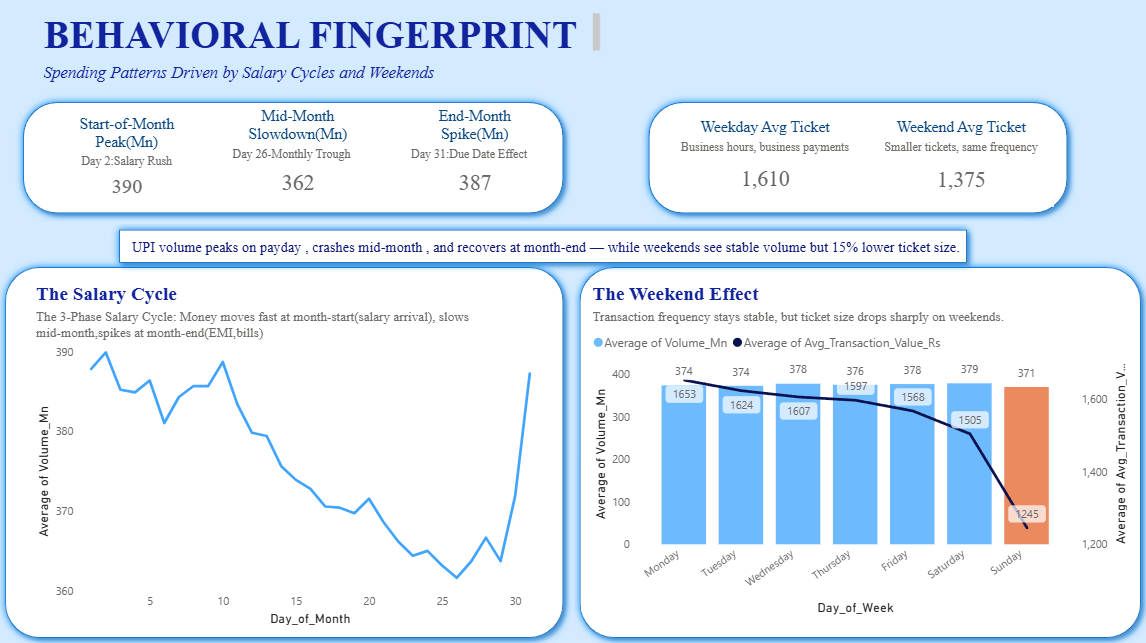

What the dashboard file says about the page in this screenshot:
{"tool":"powerbi","page":{"name":"Behavioral Fingerprint","canvas":[1280,720],"ordinal":2},"visuals":[{"type":"shape","box":[715,106.7,483.3,141.7],"z":0},{"type":"shape","box":[20,106.7,618.3,141.7],"z":1000},{"type":"shape","box":[638.3,290,641.7,430],"z":2000},{"type":"shape","box":[0,290,638.3,430],"z":3000},{"type":"lineChart","title":"The Salary Cycle","fields":{"Category":["Daily_Statistics.Day_of_Month"],"Y":["Avg(Daily_Statistics.Volume_Mn)"]},"box":[38.3,316.7,568.3,385],"z":4000},{"type":"lineClusteredColumnComboChart","title":"The Weekend Effect","fields":{"Y":["Avg(Daily_Statistics.Volume_Mn)"],"Y2":["Avg(Daily_Statistics.Avg_Transaction_Value_Rs)"],"Category":["Daily_Statistics.Day_of_Week"]},"box":[656.7,316.7,603.3,373.3],"z":5000},{"type":"textbox","box":[47,11.3,628.3,55.1],"z":6000},{"type":"textbox","box":[47,66.4,477.7,40.5],"z":7000},{"type":"card","title":"Weekday Avg Ticket","fields":{"Values":["Daily_Statistics.Weekday Avg Ticket"]},"box":[748.6,132.9,210,97.1],"z":8000},{"type":"card","title":"Weekend Avg Ticket ","fields":{"Values":["Daily_Statistics.Weekend Avg Ticket"]},"box":[968.6,132.9,205.7,98.6],"z":9000},{"type":"card","title":"Start-of-Month Peak(Mn)","fields":{"Values":["Daily_Statistics.Day2 Volume"]},"box":[66.7,121.7,155,110],"z":10000},{"type":"card","title":"Mid-Month Slowdown(Mn)","fields":{"Values":["Daily_Statistics.Day26 Volume"]},"box":[256.7,121.7,155,110],"z":11000},{"type":"card","title":"End-Month Spike(Mn)","fields":{"Values":["Daily_Statistics.Day31 Volume"]},"box":[455,121.7,151.7,110],"z":12000},{"type":"shape","box":[126.7,248.3,960,55],"z":13000},{"type":"textbox","box":[145,261.7,941.7,30],"z":14000}]}

Visuals, with their boxes in screenshot pixels (x1, y1, x2, y2), scaled from the page's 1280x720 canvas onto the 1146x643 screenshot:
shape: [640,95,1073,222]
shape: [18,95,571,222]
shape: [571,259,1145,642]
shape: [0,259,571,642]
"The Salary Cycle" lineChart: [34,283,543,627]
"The Weekend Effect" lineClusteredColumnComboChart: [588,283,1128,616]
textbox: [42,10,605,59]
textbox: [42,59,470,95]
"Weekday Avg Ticket" card: [670,119,858,205]
"Weekend Avg Ticket " card: [867,119,1051,207]
"Start-of-Month Peak(Mn)" card: [60,109,198,207]
"Mid-Month Slowdown(Mn)" card: [230,109,369,207]
"End-Month Spike(Mn)" card: [407,109,543,207]
shape: [113,222,973,271]
textbox: [130,234,973,261]
